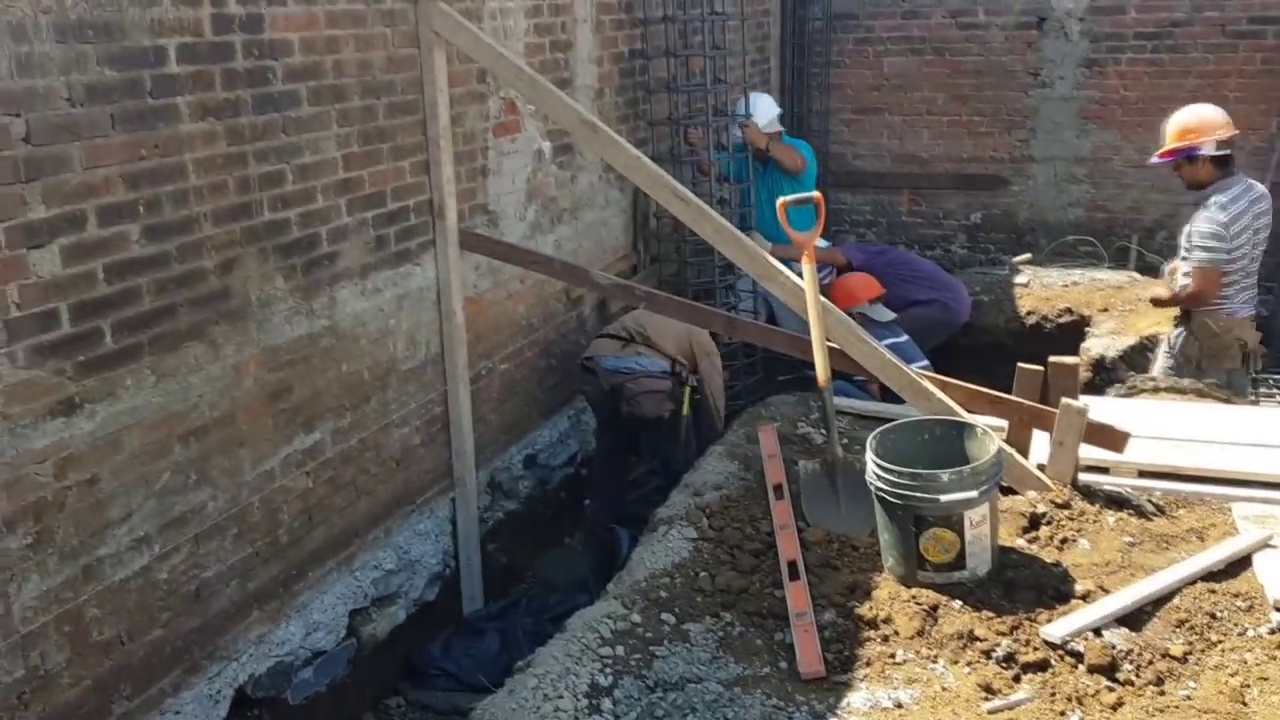helmet: (1164, 99, 1210, 165), (831, 267, 885, 315), (736, 95, 783, 137)
helmet-off: (582, 308, 726, 469)
helmet-on: (1161, 102, 1246, 196), (830, 266, 897, 332), (742, 88, 793, 149)
person: (1147, 93, 1265, 405), (692, 90, 825, 326), (749, 229, 970, 350), (814, 269, 936, 402)
